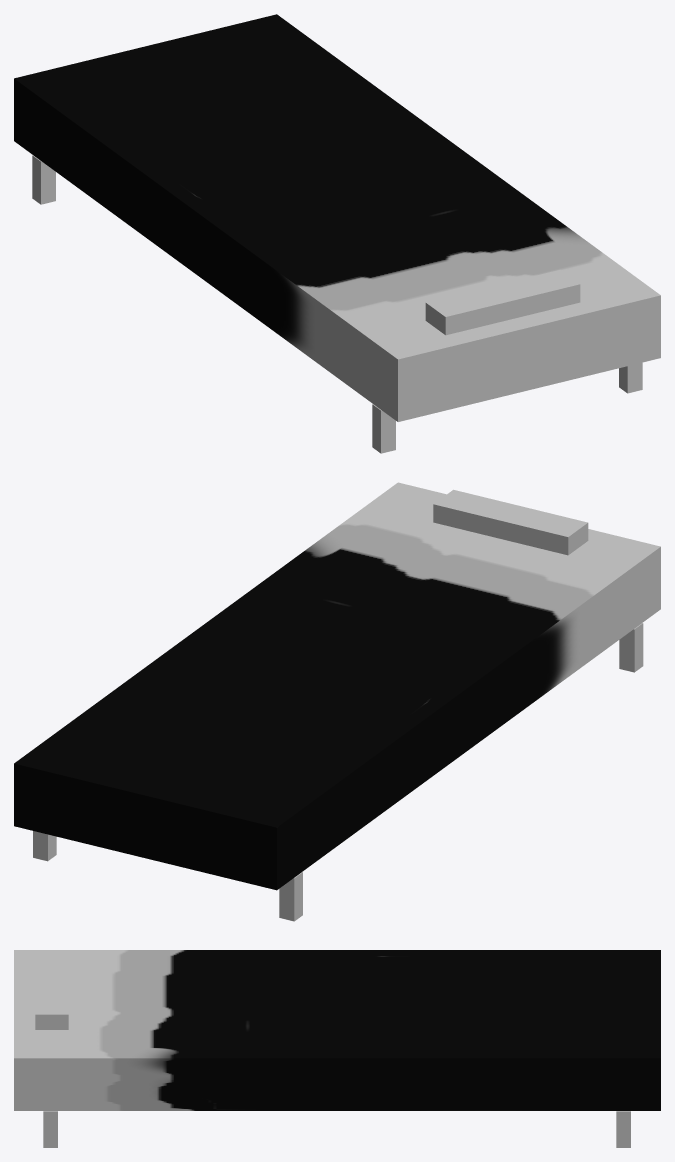
The model's file is Bed.fbx.
3 views of the same model, one above another, from view 1: azimuth 30°, elevation 25°; view 2: azimuth 150°, elevation 25°; view 3: azimuth 270°, elevation 25° (orthographic). The views are drawn at different scales.
Visible parts, largest first — view 1: Cube.001; view 2: Cube.001; view 3: Cube.001.
Boxes of the visible parts, left/top/right/bottom form: Cube.001: left=14, top=14, right=660, bottom=453; Cube.001: left=14, top=482, right=660, bottom=921; Cube.001: left=14, top=950, right=660, bottom=1147.
Bounding box in the file's own units: 278 × 127 × 704.
